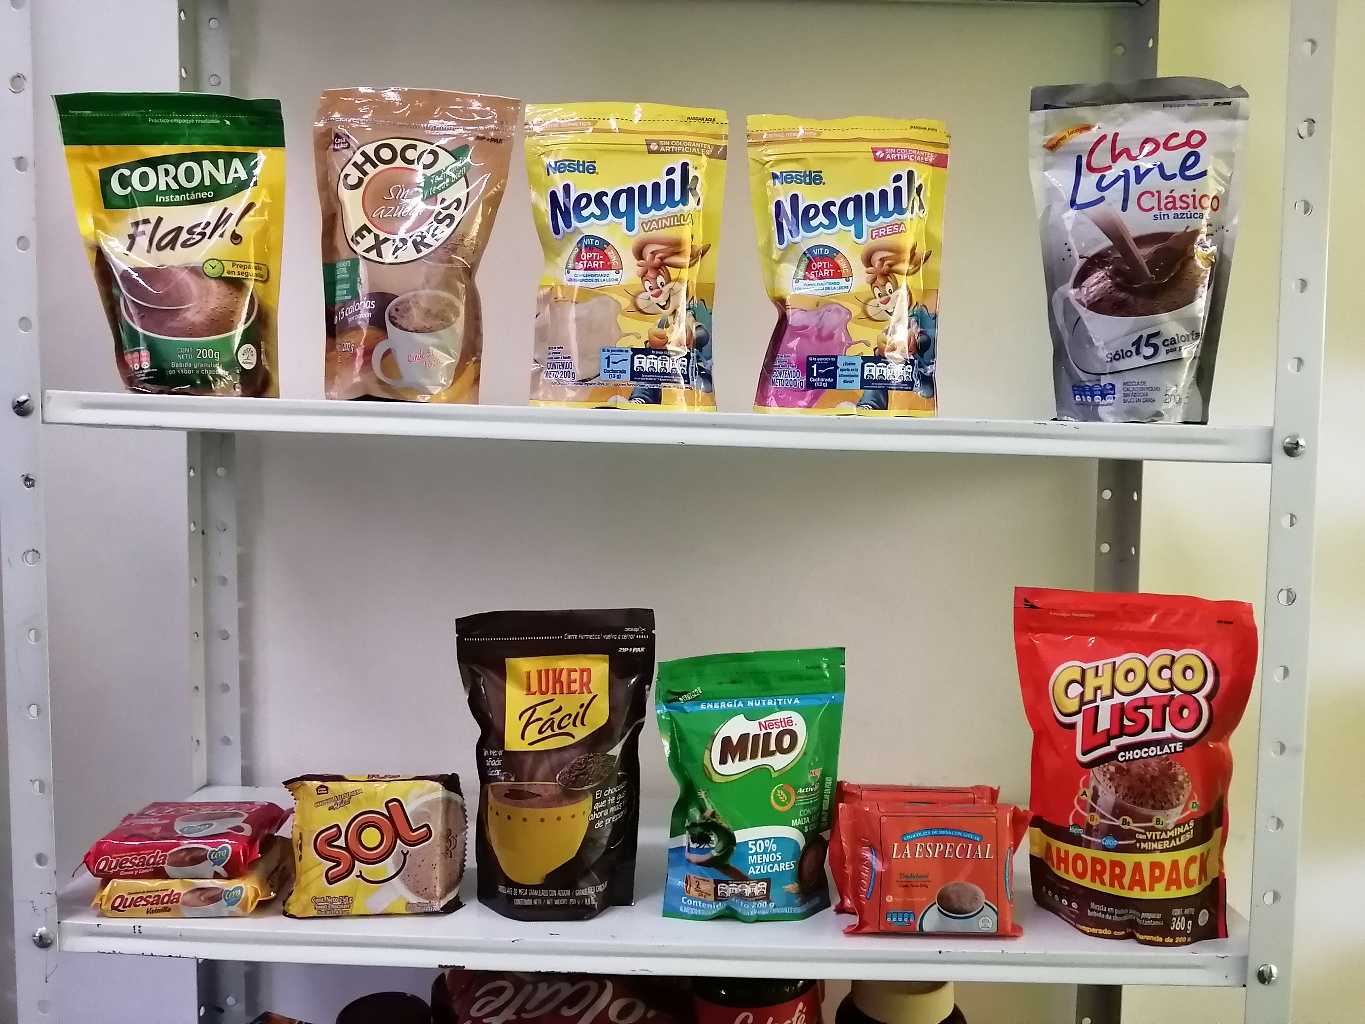COL0170103DYP36000: (1011, 575, 1259, 951)
COL0170205DYP20000: (658, 646, 845, 928)
COL0170305DYP20000: (743, 113, 945, 419)
COL0170306DYP20000: (511, 101, 738, 413)
